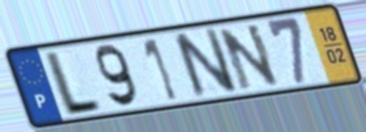1: (142, 36, 181, 103)
7: (263, 16, 307, 87)
9: (95, 42, 140, 109)
L: (43, 48, 105, 119)
N: (169, 25, 241, 101), (215, 21, 283, 93)
